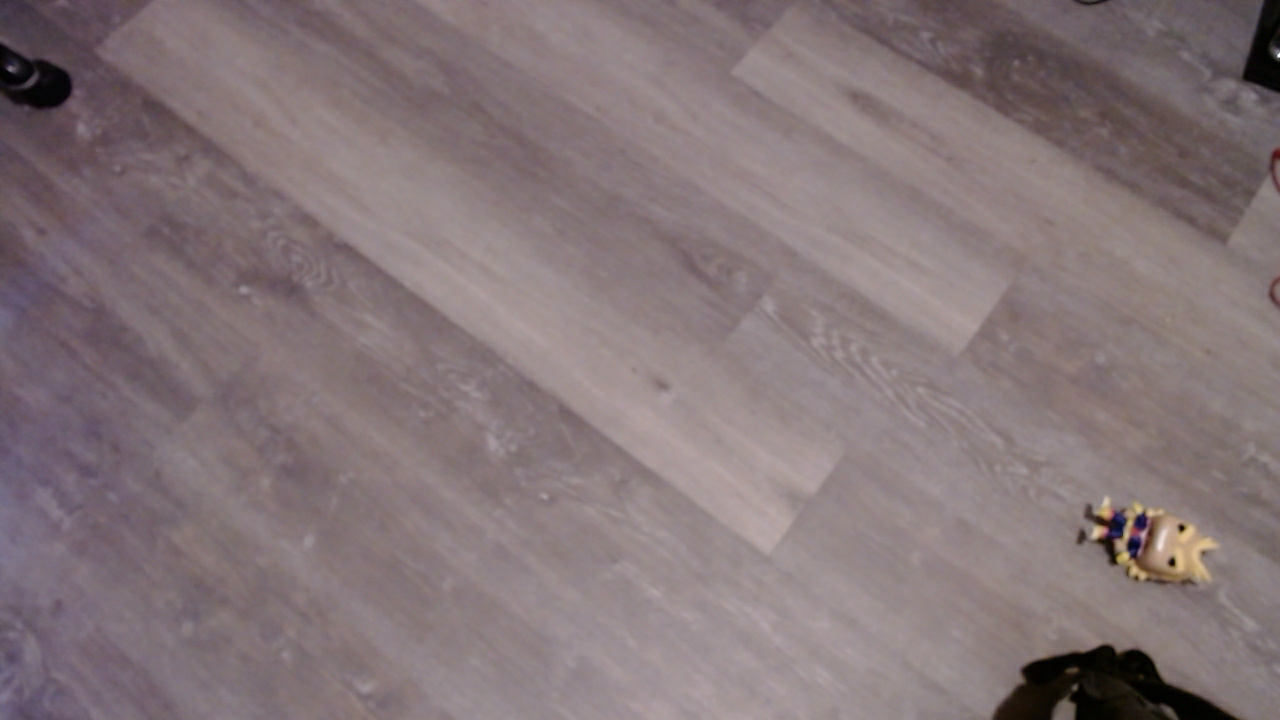all_might: (1084, 499, 1235, 606)
